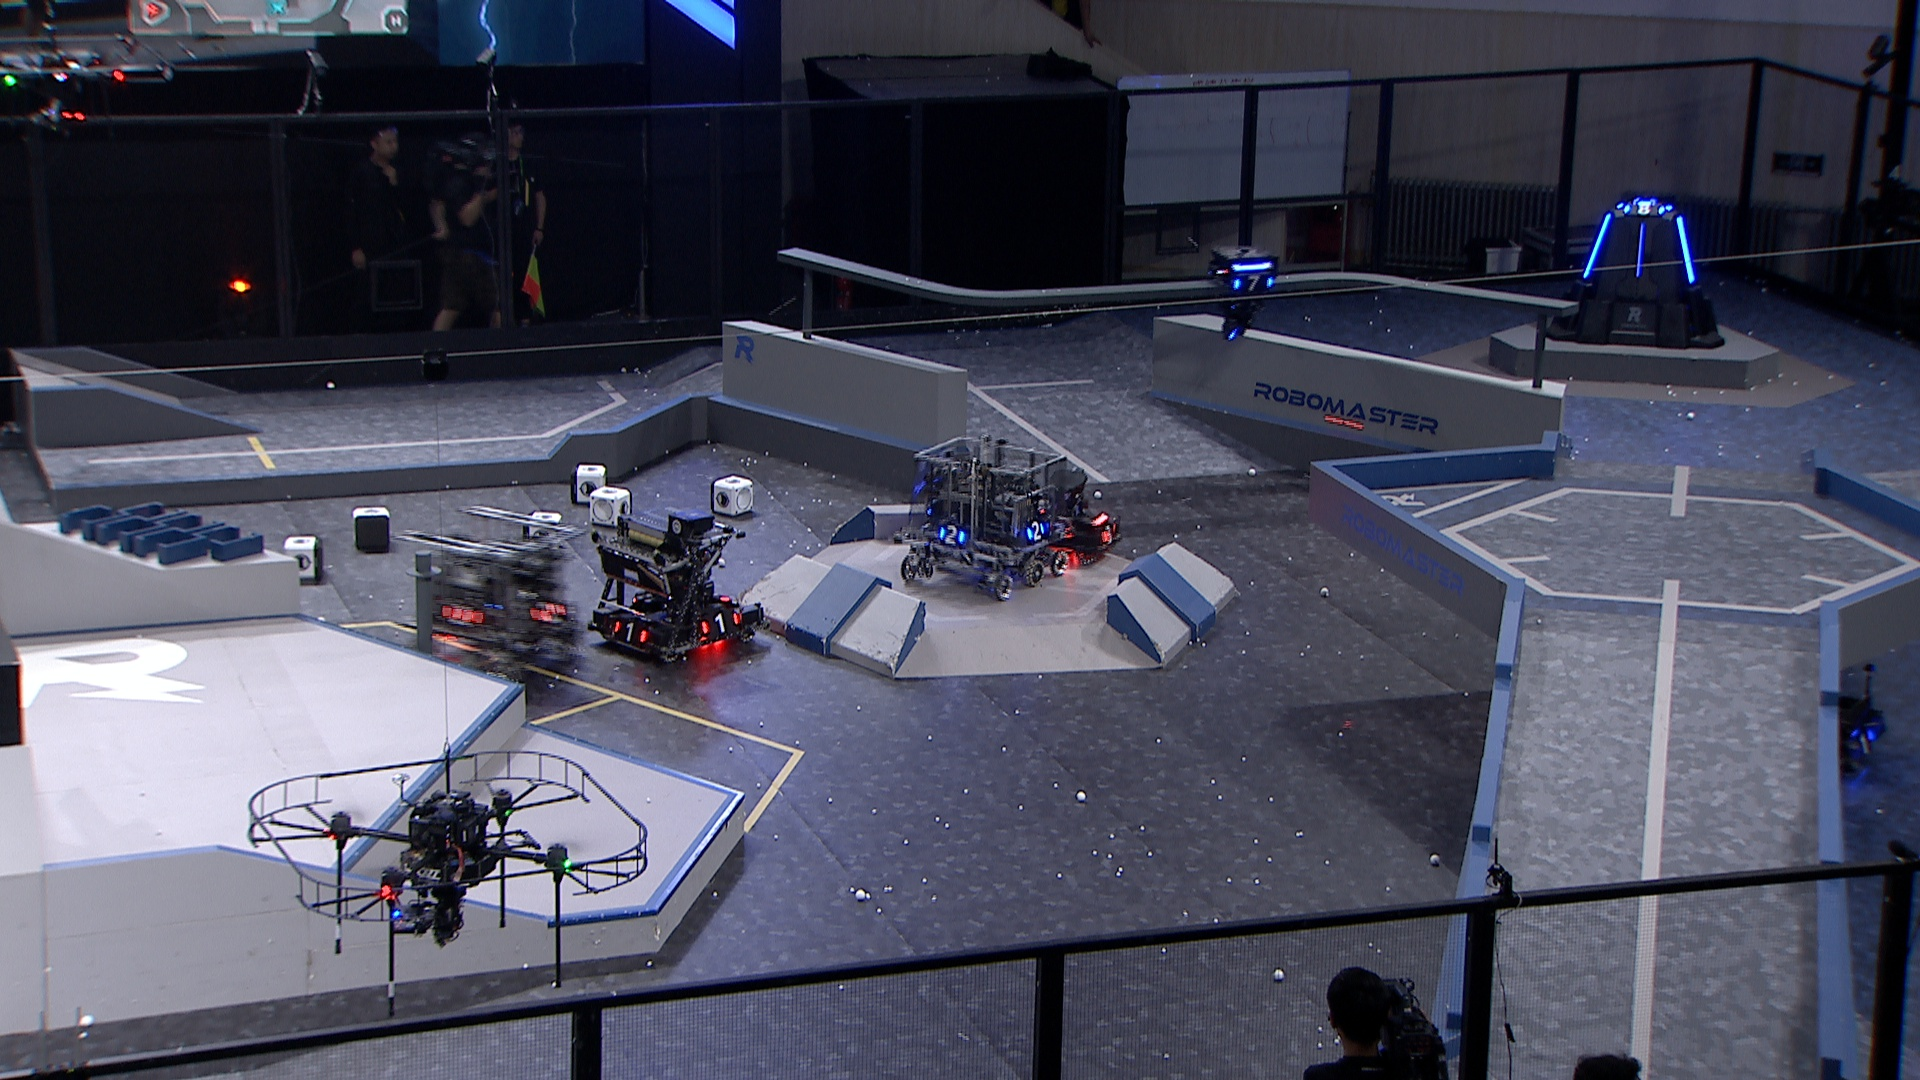armor: (1581, 214, 1615, 278), (1673, 215, 1702, 285), (609, 618, 650, 646), (442, 603, 484, 628), (698, 613, 741, 636), (1232, 276, 1276, 295), (1622, 200, 1669, 219), (936, 524, 972, 547), (1633, 223, 1647, 278), (1044, 520, 1076, 541), (1854, 728, 1878, 756), (531, 603, 564, 622), (1025, 520, 1048, 542), (1098, 522, 1120, 546)
base: (1536, 190, 1726, 349)
car: (398, 504, 585, 679), (585, 502, 769, 673), (898, 433, 1069, 597), (1746, 641, 1890, 775), (1025, 465, 1121, 564)
watcher: (1203, 243, 1287, 343)
